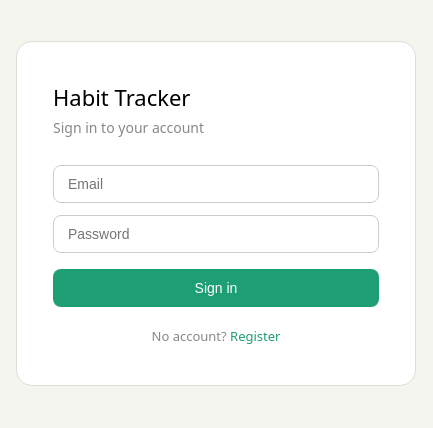
AuthPage › switches to register mode when clicking Register link
This screenshot has width=433, height=428.
Click the text "Register" at (255, 336), box [230, 326, 280, 344]
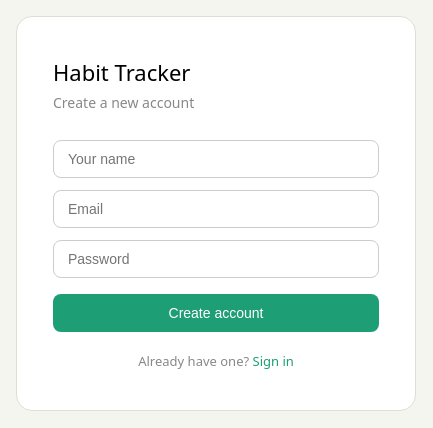
expect the field with placeholder "Your name" is shown: met, box [53, 140, 379, 178]
expect the button "Create account" is shown: met, box [53, 294, 379, 332]
expect the text "Already have one? Sign in" is shown: met, box [138, 352, 294, 370]
